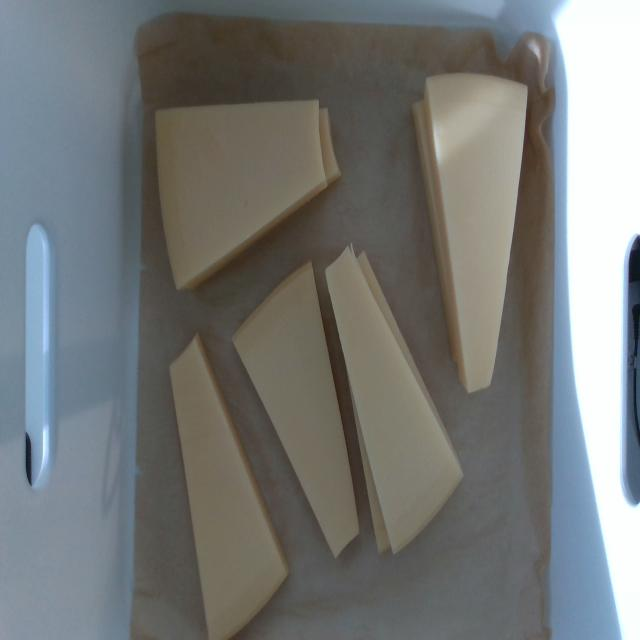cheese: (328, 250, 462, 551), (234, 263, 358, 556), (171, 335, 286, 639), (426, 74, 528, 396), (157, 100, 328, 288)
